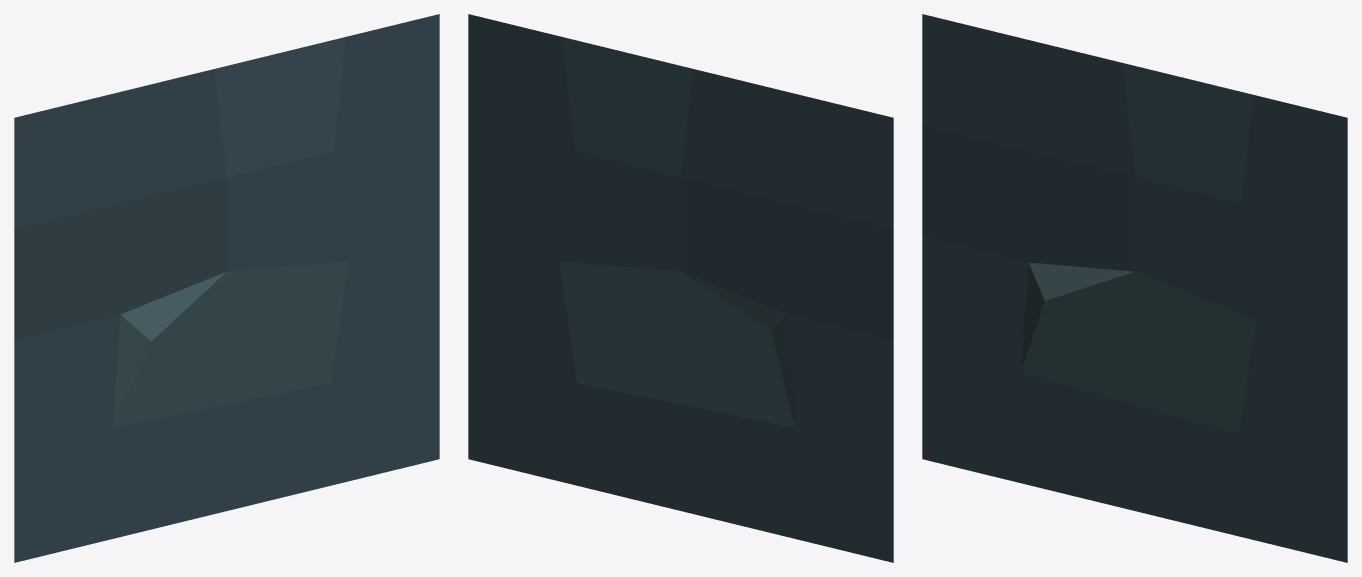
Rendered from wall_2m_front.fbx.
3 renders of one model, left to right at view 1: azimuth 30°, elevation 25°; view 2: azimuth 150°, elevation 25°; view 3: azimuth 330°, elevation 25°, orthographic.
Visible parts, largest first — view 1: wall_2m_front; view 2: wall_2m_front; view 3: wall_2m_front.
Boxes of the visible parts, x1=… form: wall_2m_front: x1=14, y1=14, x2=439, y2=562; wall_2m_front: x1=468, y1=14, x2=893, y2=562; wall_2m_front: x1=922, y1=14, x2=1347, y2=562.
Bounding box in the file's own units: 200 × 200 × 5.88.
